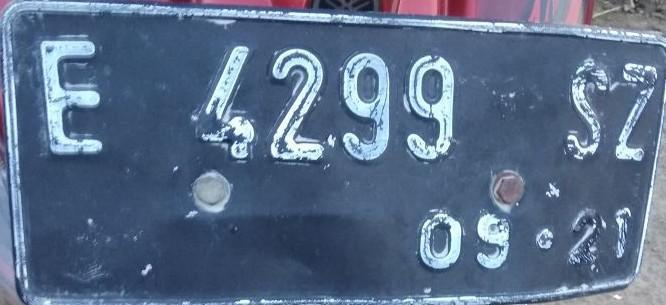2: (252, 46, 336, 166)
4: (177, 38, 258, 170)
9: (392, 48, 469, 170), (330, 48, 399, 170)
E: (20, 40, 122, 158)
S: (564, 57, 612, 164)
Z: (618, 54, 655, 168)
